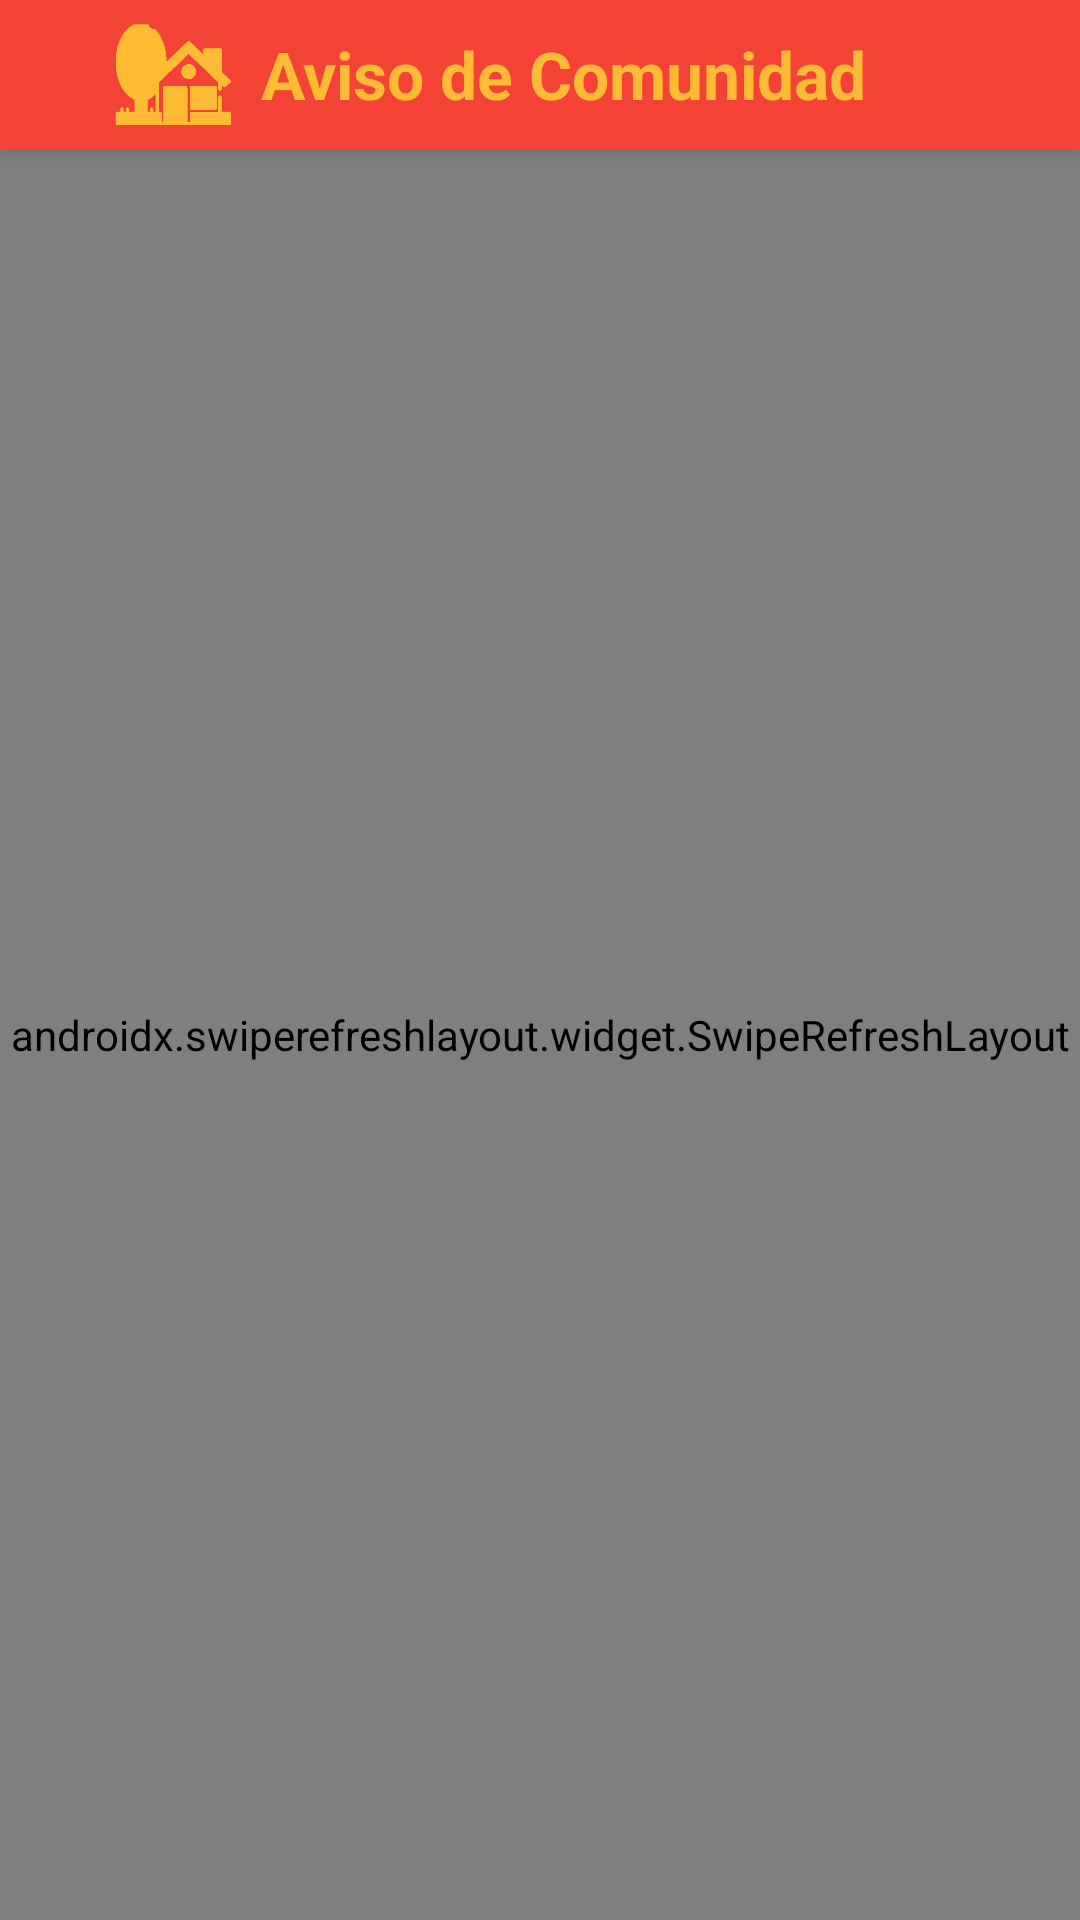

Named icons in this screenshot (1080*1920) and their bounding boxes, (x1, y1, x2, y2):
casa: (115, 24, 231, 125)
